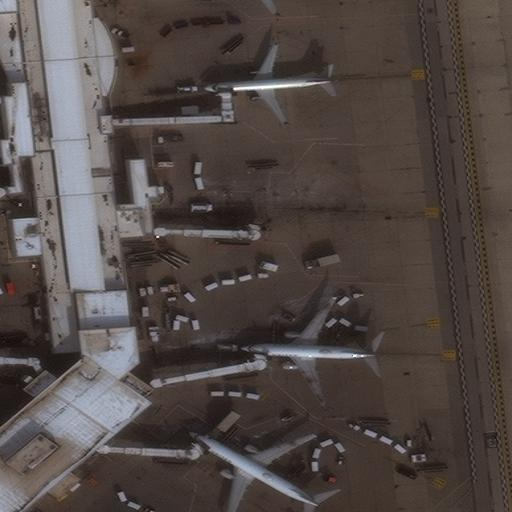Medium Civil Transport: (239, 298, 376, 406), (187, 430, 319, 512), (203, 45, 334, 123)
